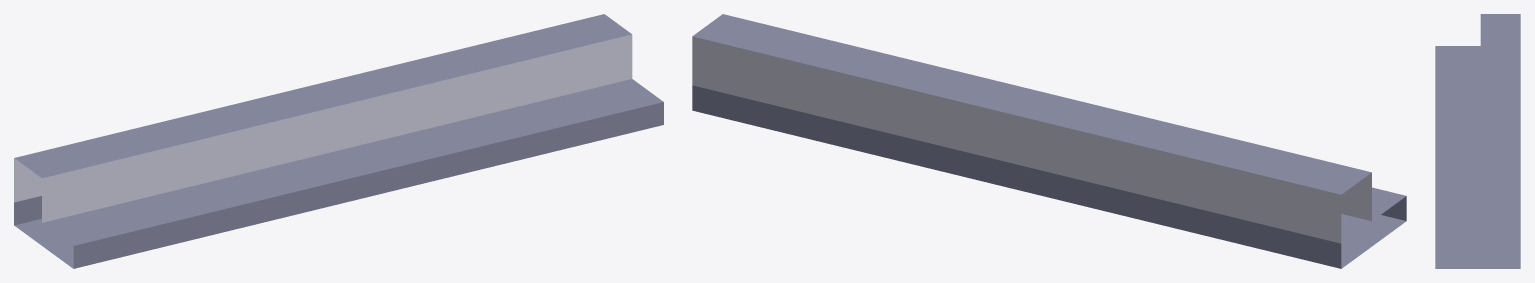
Rendered from Ceiling_Ledge_Segment.fbx.
3 renders of one model, left to right at view 1: azimuth 30°, elevation 25°; view 2: azimuth 150°, elevation 25°; view 3: azimuth 270°, elevation 25°, orthographic. The views are drawn at different scales.
Parts seen in each view (by area): view 1: Ceiling_Ledge; view 2: Ceiling_Ledge; view 3: Ceiling_Ledge.
Part boxes in pixels (left/top/right/bottom): Ceiling_Ledge: left=14, top=14, right=663, bottom=268; Ceiling_Ledge: left=692, top=14, right=1406, bottom=268; Ceiling_Ledge: left=1435, top=14, right=1520, bottom=268.
Size of the model in its own units: 401 by 43.79 by 69.86.
